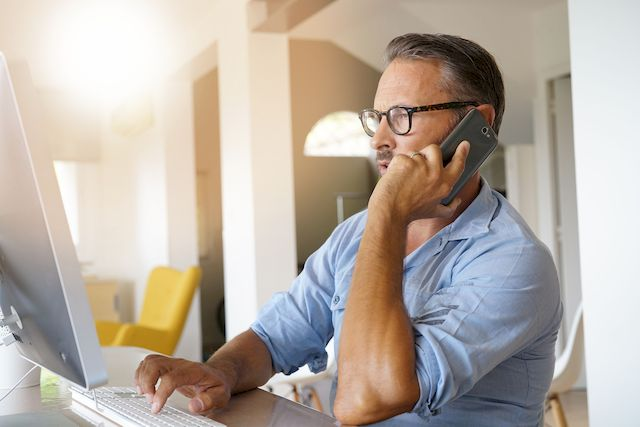phone: (418, 105, 500, 191)
talk: (367, 96, 509, 225)
